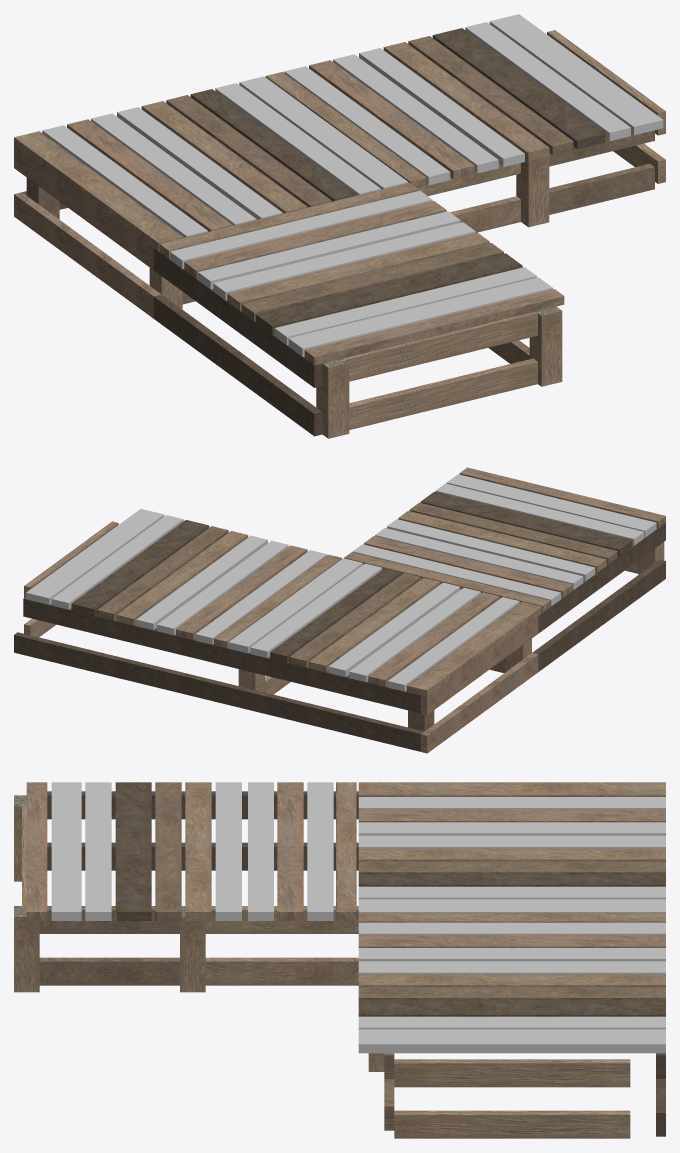
The model's file is WoodFloorHalfCrnerB.fbx.
3 views of the same model, one above another, from view 1: azimuth 30°, elevation 25°; view 2: azimuth 150°, elevation 25°; view 3: azimuth 270°, elevation 25° (orthographic). The views are drawn at different scales.
Parts seen in each view (by area): view 1: WoodFloorHalfCrnerB; view 2: WoodFloorHalfCrnerB; view 3: WoodFloorHalfCrnerB.
Boxes of the visible parts, x1,y1,x2,y2 form: WoodFloorHalfCrnerB: [14, 14, 665, 438]; WoodFloorHalfCrnerB: [14, 467, 665, 753]; WoodFloorHalfCrnerB: [14, 782, 665, 1138].
Bounding box in the file's own units: 392 × 56.6 × 397.
